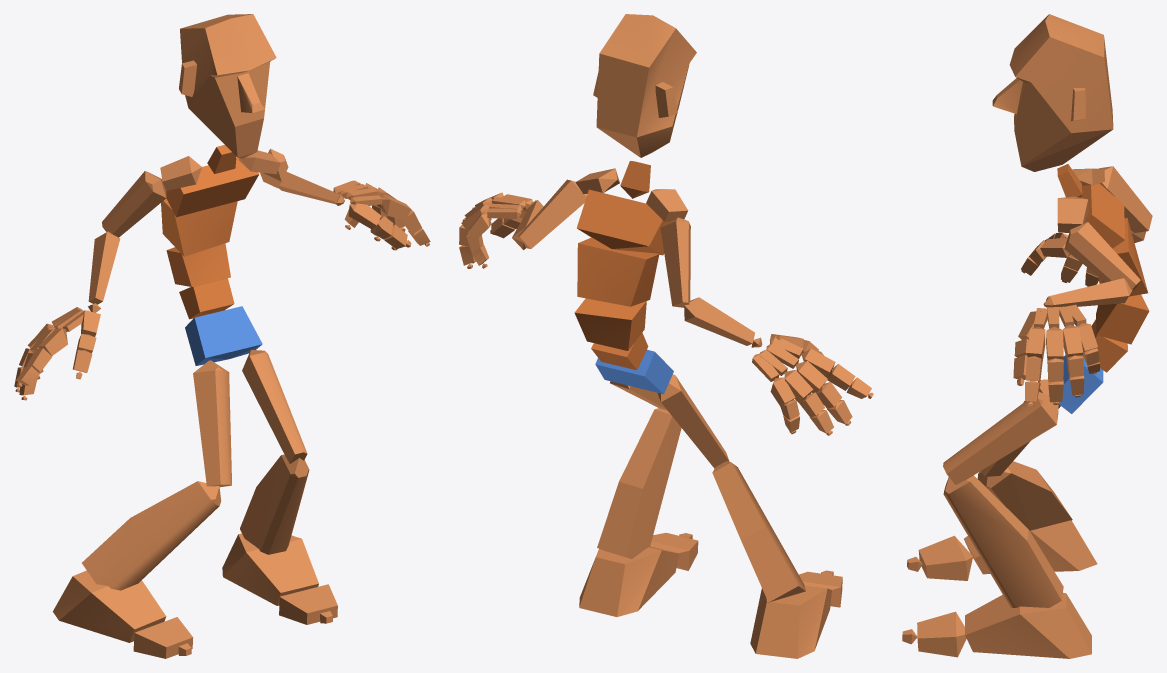
File: prueba267.obj
The picture shows the model from 3 angles, left to right: view 1: azimuth 30°, elevation 25°; view 2: azimuth 150°, elevation 25°; view 3: azimuth 270°, elevation 25°; orthographic projection. The views are drawn at different scales.
Parts seen in each view (by area): view 1: BOPED_Head, BOPED_R_leg, BOPED_R_foot, BOPED_L_leg, BOPED_R_foot01, BOPED_R_legup, Bone01, BOPED_L_legup, Bone04, Bone05, BOPED_R_arm_upper, Bone03 (+8 smaller); view 2: BOPED_Head, BOPED_L_leg, BOPED_R_leg, BOPED_R_foot01, BOPED_R_foot, Bone04, Bone05, Bone03, BOPED_R_legup, BOPED_R_arm_upper, BOPED_L_arm_upper, Bone01 (+7 smaller); view 3: BOPED_Head, BOPED_L_leg, BOPED_R_foot01, BOPED_L_legup, BOPED_R_leg, BOPED_R_foot, BOPED_L_arm_upper, Bone05, Bone03, BOPED_R_foot_toe01, BOPED_R_foot_toe04, BOPED_L_arm_fore (+15 smaller).
Part boxes in pixels (x1=…): BOPED_Head: x1=179, y1=14, x2=276, y2=158; BOPED_R_leg: x1=82, y1=481, x2=221, y2=590; BOPED_R_foot: x1=53, y1=570, x2=166, y2=642; BOPED_L_leg: x1=240, y1=454, x2=309, y2=554; BOPED_R_foot01: x1=222, y1=533, x2=318, y2=605; BOPED_R_legup: x1=193, y1=360, x2=231, y2=487; Bone01: x1=185, y1=306, x2=262, y2=365; BOPED_L_legup: x1=242, y1=350, x2=307, y2=463; Bone04: x1=161, y1=198, x2=237, y2=256; Bone05: x1=166, y1=157, x2=259, y2=217; BOPED_R_arm_upper: x1=102, y1=171, x2=166, y2=237; Bone03: x1=166, y1=243, x2=230, y2=286; BOPED_Head: x1=593, y1=14, x2=696, y2=157; BOPED_L_leg: x1=597, y1=408, x2=681, y2=559; BOPED_R_leg: x1=712, y1=461, x2=805, y2=602; BOPED_R_foot01: x1=579, y1=546, x2=679, y2=616; BOPED_R_foot: x1=750, y1=585, x2=831, y2=658; Bone04: x1=577, y1=238, x2=659, y2=306; Bone05: x1=577, y1=189, x2=669, y2=255; Bone03: x1=574, y1=298, x2=646, y2=350; BOPED_R_legup: x1=657, y1=374, x2=729, y2=468; BOPED_R_arm_upper: x1=660, y1=217, x2=690, y2=307; BOPED_L_arm_upper: x1=518, y1=179, x2=586, y2=248; Bone01: x1=595, y1=349, x2=673, y2=394; BOPED_Head: x1=992, y1=14, x2=1113, y2=171; BOPED_L_leg: x1=943, y1=475, x2=1063, y2=607; BOPED_R_foot01: x1=965, y1=592, x2=1091, y2=658; BOPED_L_legup: x1=943, y1=391, x2=1058, y2=484; BOPED_R_leg: x1=977, y1=461, x2=1072, y2=530; BOPED_R_foot: x1=964, y1=520, x2=1097, y2=574; BOPED_L_arm_upper: x1=1064, y1=222, x2=1140, y2=291; Bone05: x1=1081, y1=183, x2=1125, y2=248; Bone03: x1=1096, y1=294, x2=1149, y2=344; BOPED_R_foot_toe01: x1=918, y1=535, x2=972, y2=580; BOPED_R_foot_toe04: x1=917, y1=611, x2=966, y2=657; BOPED_L_arm_fore: x1=1046, y1=278, x2=1132, y2=307.
Bounding box in the file's own units: 130 × 175 × 65.18.
